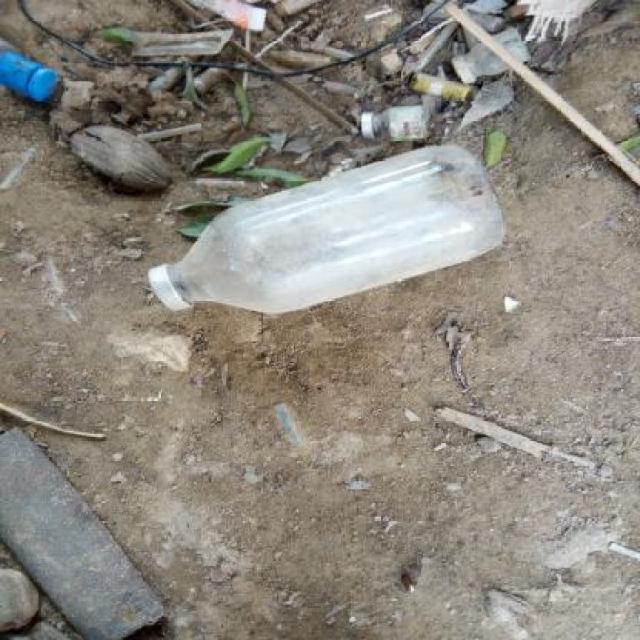garbage: (111, 170, 596, 319), (6, 0, 596, 112)
